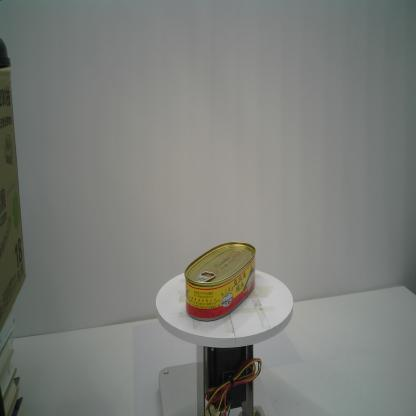Canned Food: (182, 240, 257, 323)
